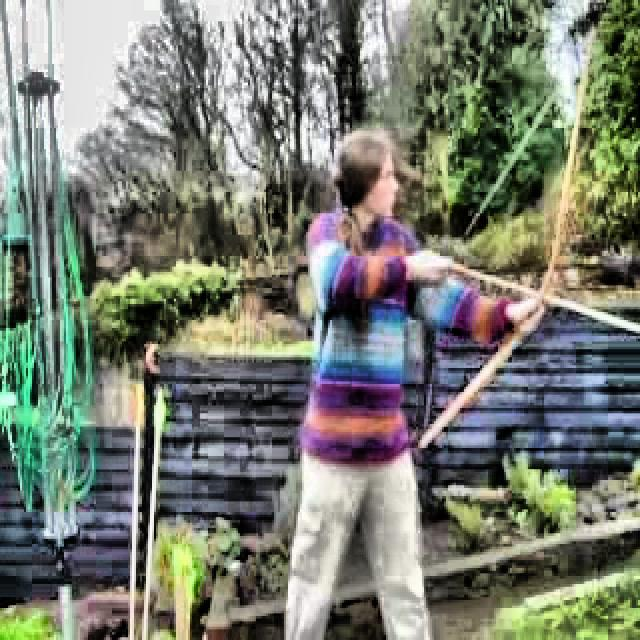I: (294, 116, 557, 640)
